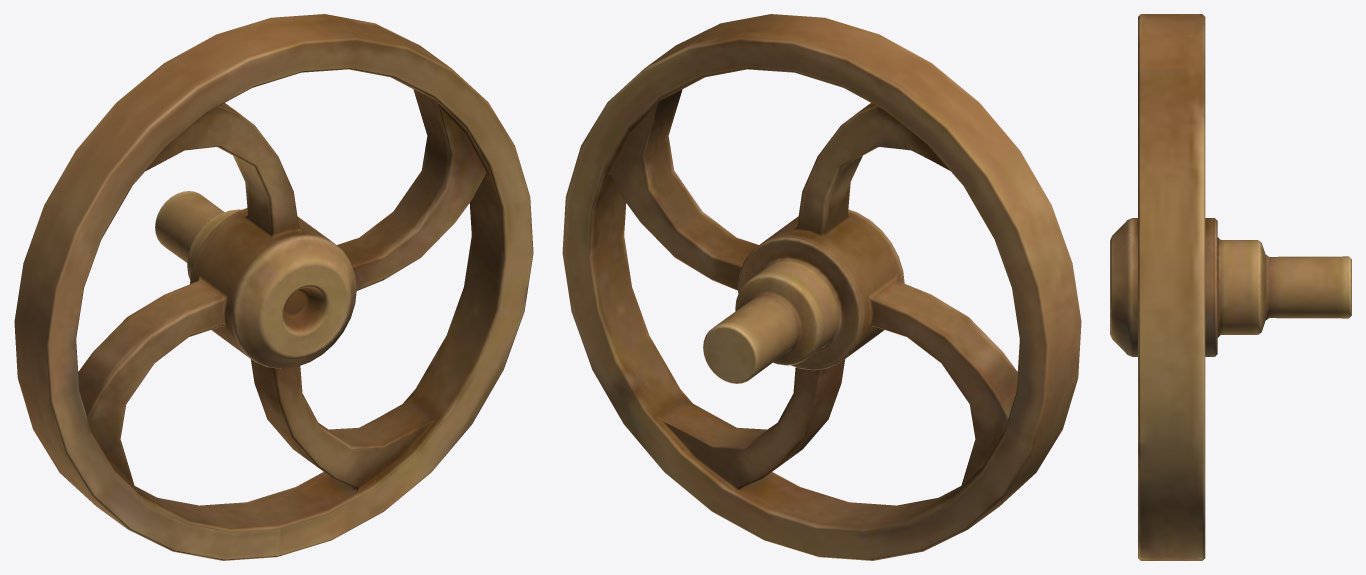
Rendered from Wheel0.fbx.
3 renders of one model, left to right at view 1: azimuth 30°, elevation 25°; view 2: azimuth 150°, elevation 25°; view 3: azimuth 270°, elevation 25°, orthographic. The views are drawn at different scales.
Parts seen in each view (by area): view 1: Cube.030; view 2: Cube.030; view 3: Cube.030.
Part boxes in pixels (x1,y1,x2,y2): Cube.030: (14,14,533,560); Cube.030: (562,14,1081,560); Cube.030: (1110,14,1351,560).
Bounding box in the file's own units: 346 × 346 × 153.
